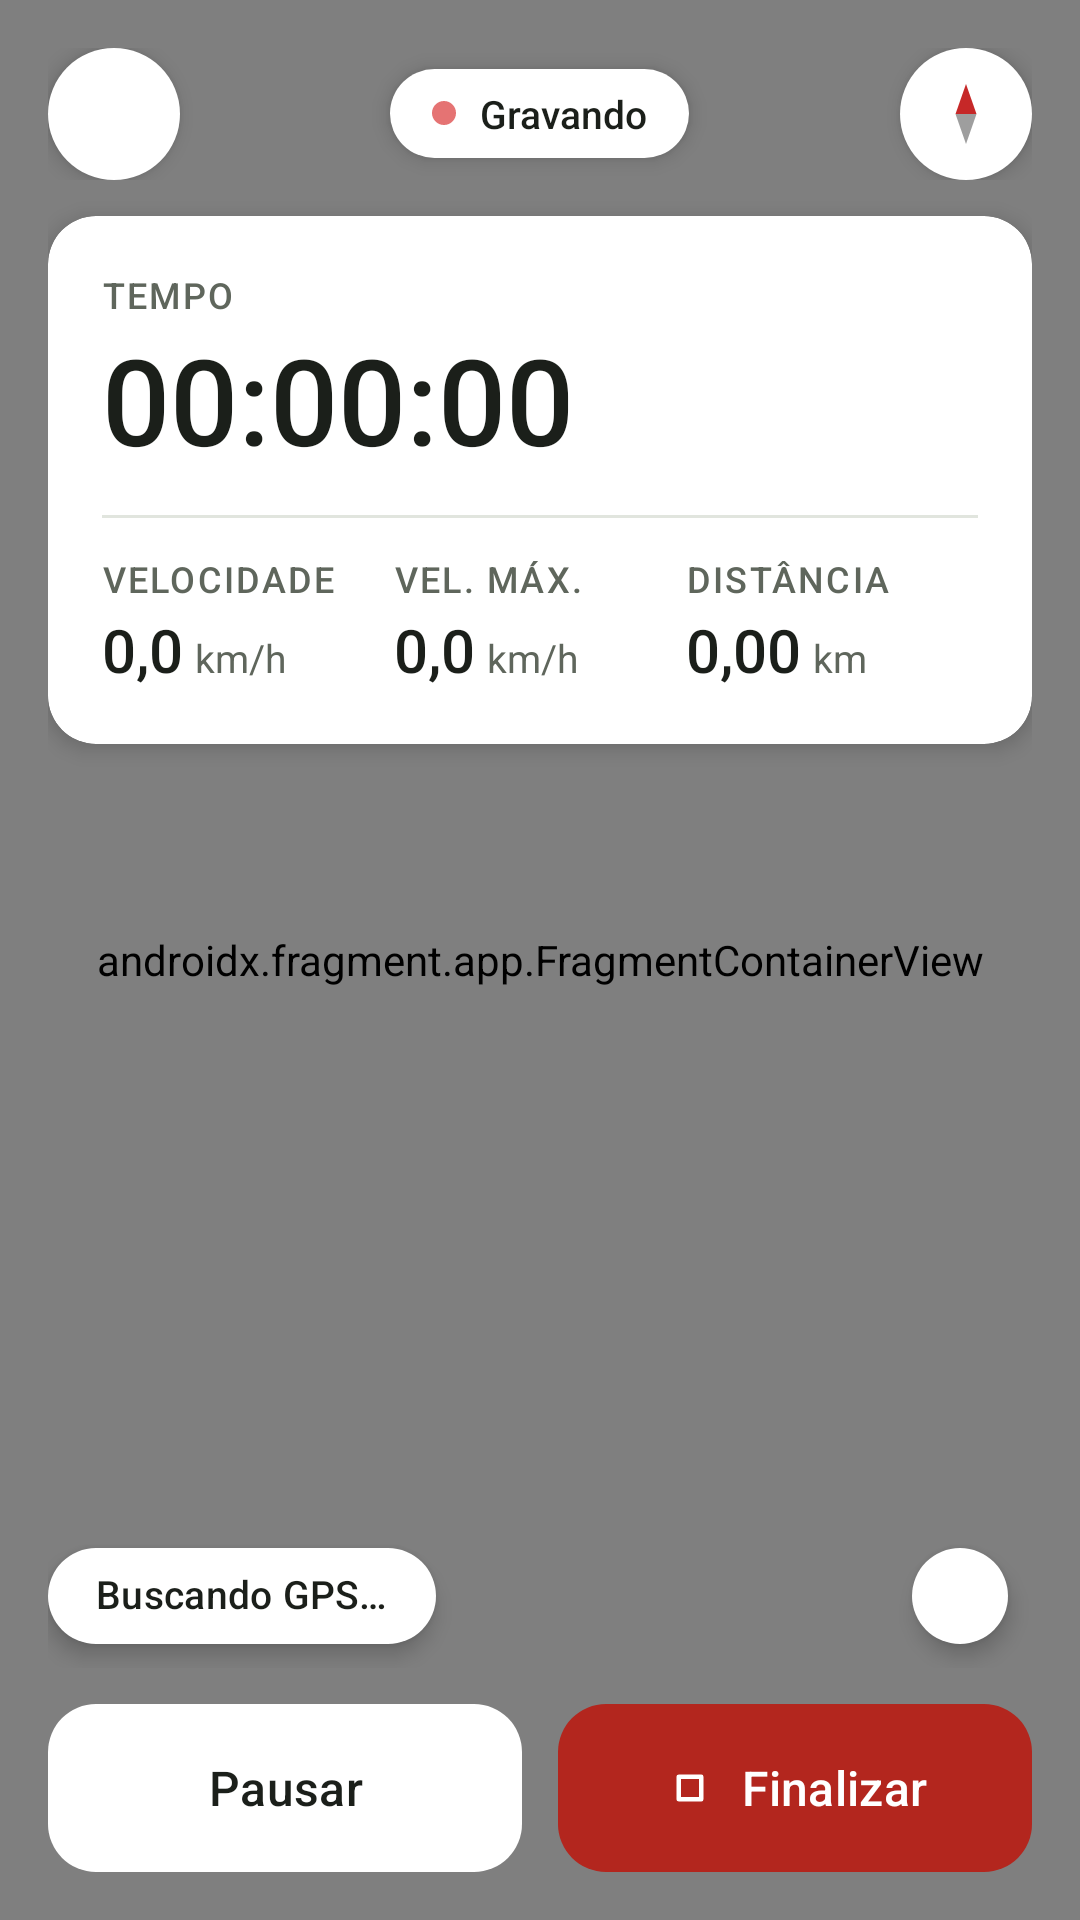

Icon bounding boxes for this 1080px x 1920px phone screenshot, format (x1, y1, x2, y2):
Bússola: (900, 48, 1032, 180)
